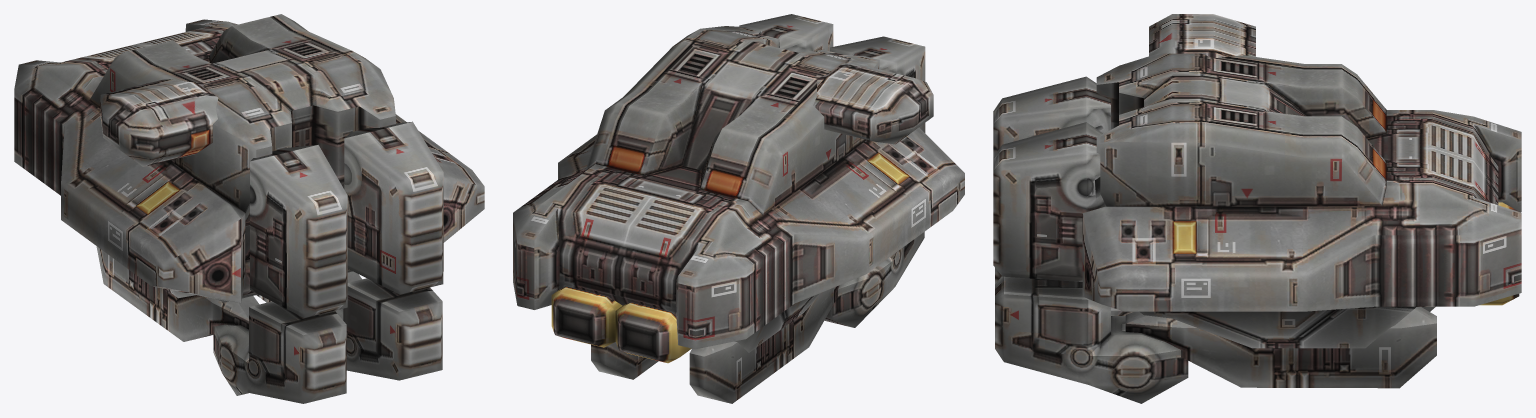
File: hgn_su_tugs_01.glb
3 views of the same model, side by side, from view 1: azimuth 30°, elevation 25°; view 2: azimuth 150°, elevation 25°; view 3: azimuth 270°, elevation 25° (orthographic). The views are drawn at different scales.
Visible parts, largest first — view 1: hgn_su_tugs_01_LOD1; view 2: hgn_su_tugs_01_LOD1; view 3: hgn_su_tugs_01_LOD1.
Part boxes in pixels (x1,y1,x2,y2): hgn_su_tugs_01_LOD1: (14,14,484,403); hgn_su_tugs_01_LOD1: (513,14,964,403); hgn_su_tugs_01_LOD1: (993,14,1521,403).
Bounding box in the file's own units: 0.3146 × 0.2693 × 0.4484.
Materials: 1 (1 with a texture image).
